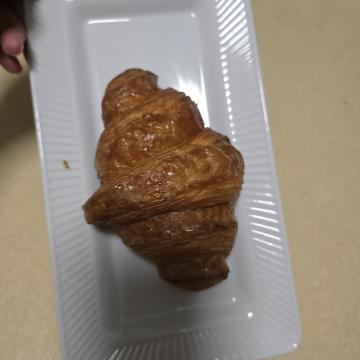croissant: (62, 107, 312, 287)
